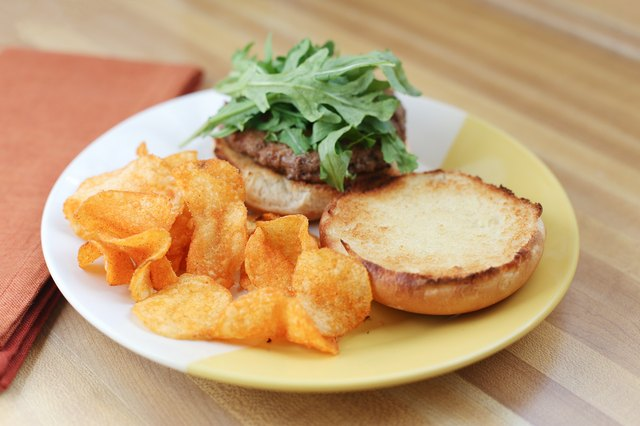hamburger_buns: (317, 147, 542, 328)
